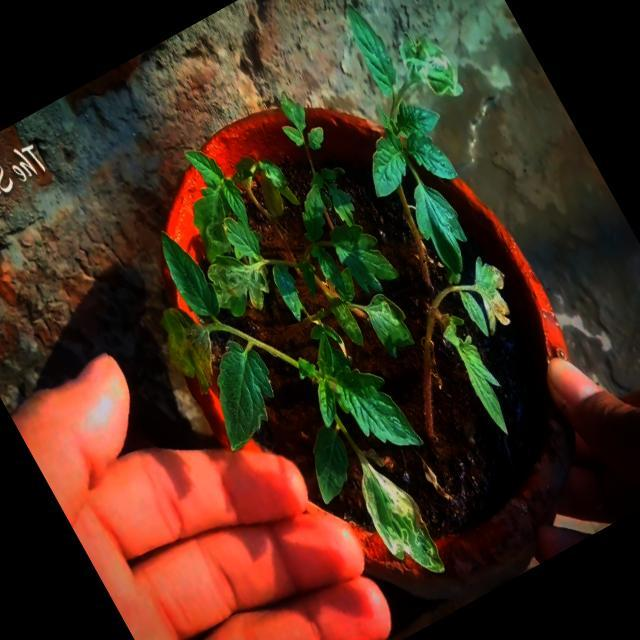Tomato healthy leaf: (182, 329, 298, 459), (328, 348, 428, 472), (146, 216, 228, 328), (322, 208, 402, 302), (288, 420, 366, 508), (335, 0, 406, 95), (348, 120, 422, 202), (402, 121, 462, 192), (282, 179, 344, 247), (387, 86, 448, 148), (218, 175, 262, 234), (182, 138, 227, 193), (310, 244, 352, 302)
Tomato target spot leaf: (147, 296, 234, 402), (196, 234, 285, 327), (388, 18, 469, 114), (358, 286, 424, 365), (322, 289, 370, 354)
